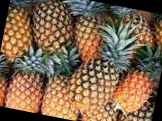Pineapple: (71, 16, 141, 113)
